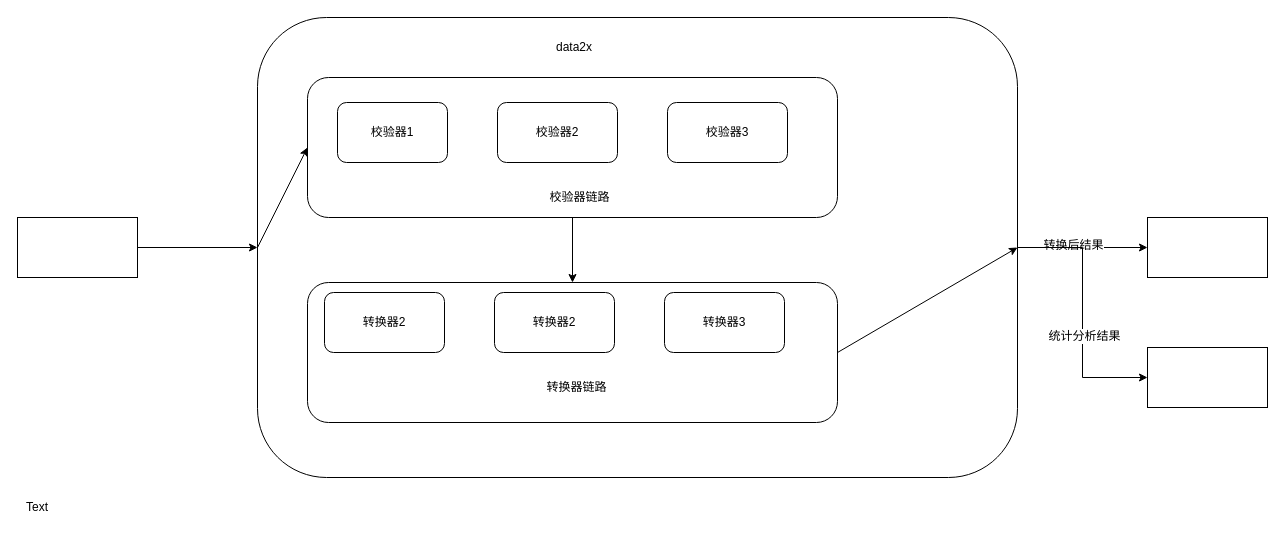
Some shapes in this 1285 by 535 pixel diagram are drawn without their labels. Here are the shapes that lost their labels. From the top down, the centre of each, then its label:
(77,247): json 文件
(1207,247): kafka
(1207,377): mysql
